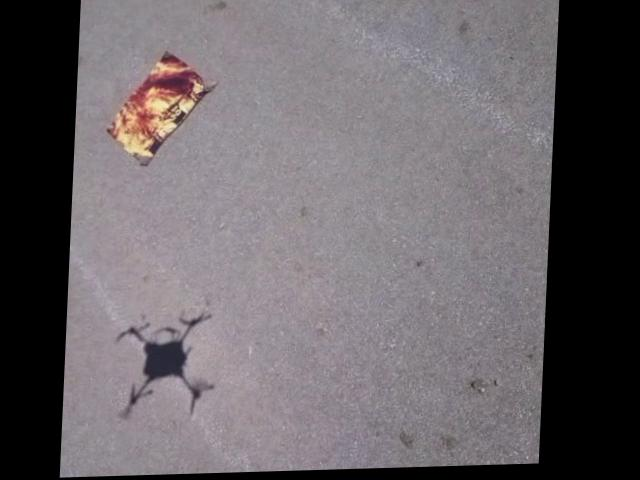fire-poster: (103, 50, 219, 171)
